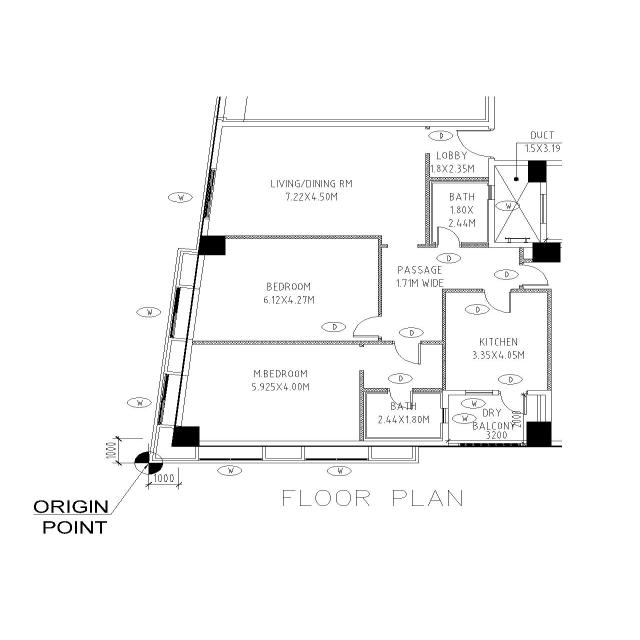Column: (526, 421, 552, 448), (170, 426, 200, 448), (532, 242, 561, 263), (197, 235, 226, 256), (527, 160, 547, 183)
Door: (488, 128, 496, 159), (498, 390, 528, 396), (377, 314, 383, 340), (482, 288, 512, 293), (392, 340, 422, 345), (518, 263, 524, 287), (435, 244, 463, 248), (387, 388, 415, 392)
Ventilator: (488, 184, 496, 201), (441, 408, 449, 423)
Window: (155, 372, 171, 426), (202, 167, 218, 220), (168, 286, 182, 340), (538, 193, 548, 226), (198, 458, 264, 462), (304, 458, 370, 462), (465, 389, 493, 396)
